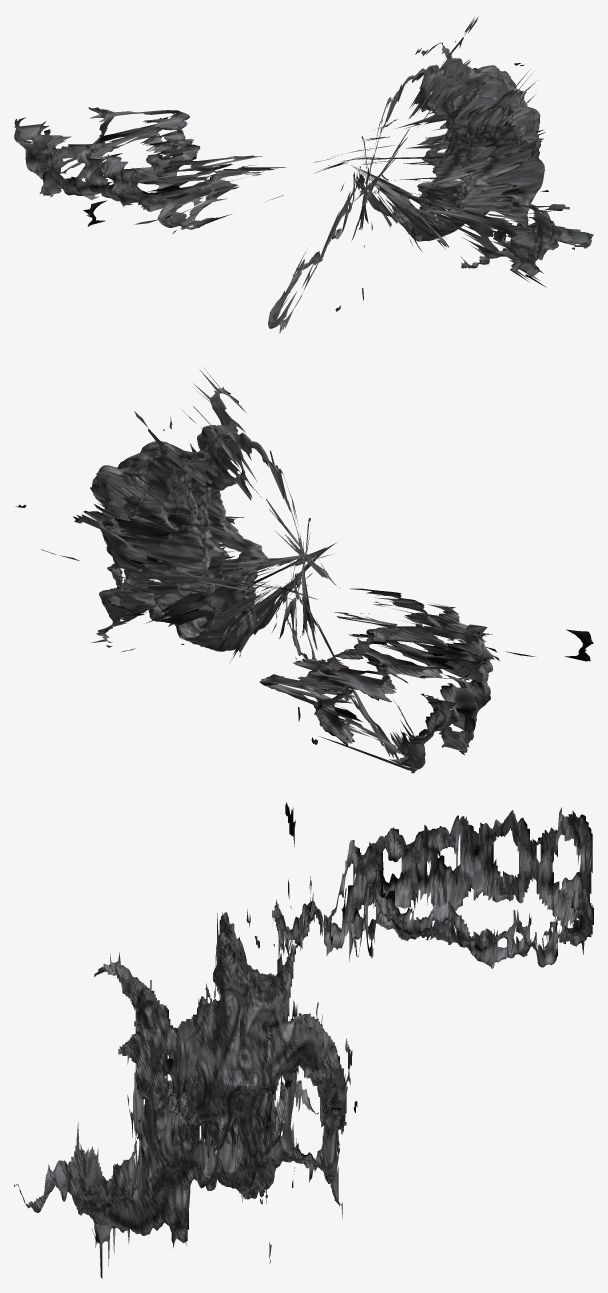
3 renders of one model, top to bottom at view 1: azimuth 30°, elevation 25°; view 2: azimuth 150°, elevation 25°; view 3: azimuth 270°, elevation 25°, orthographic. The views are drawn at different scales.
Visible parts, largest first — view 1: geometry_0; view 2: geometry_0; view 3: geometry_0.
Boxes of the visible parts, x1=… form: geometry_0: x1=14, y1=16, x2=593, y2=333; geometry_0: x1=15, y1=368, x2=593, y2=773; geometry_0: x1=14, y1=802, x2=593, y2=1278.
Size of the model in its own units: 1.72 by 0.9599 by 1.27.
1 material, 1 textured.
